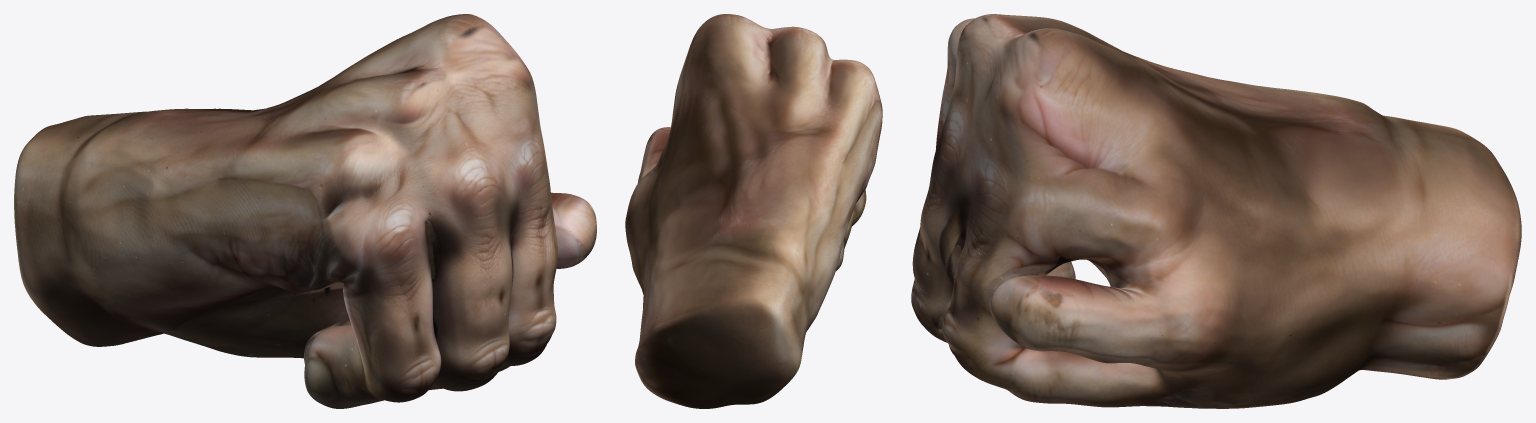
File: 握り拳.fbx
3 views of the same model, side by side, from view 1: azimuth 30°, elevation 25°; view 2: azimuth 150°, elevation 25°; view 3: azimuth 270°, elevation 25° (orthographic). The views are drawn at different scales.
Visible parts, largest first — view 1: Mesh_0; view 2: Mesh_0; view 3: Mesh_0.
Part boxes in pixels (left/top/right/bottom): Mesh_0: left=14, top=14, right=596, bottom=408; Mesh_0: left=625, top=14, right=882, bottom=408; Mesh_0: left=911, top=14, right=1521, bottom=408.
Size of the model in its own units: 152 by 150 by 200.
1 material, 1 textured.
